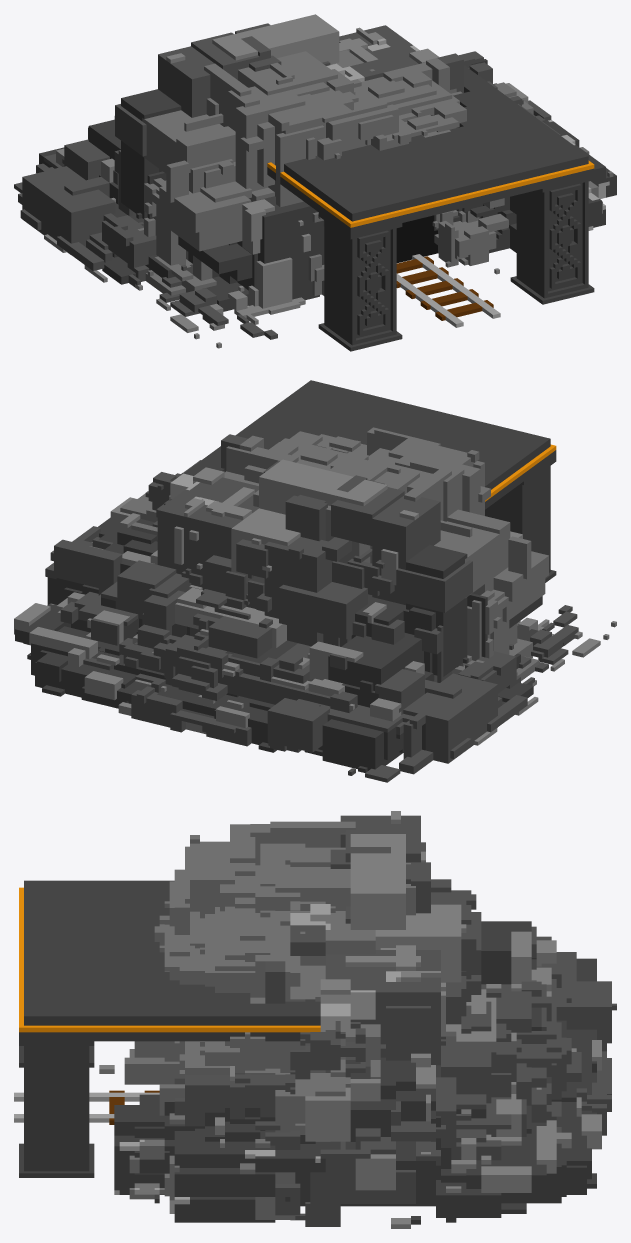
File: Mine.fbx
3 views of the same model, one above another, from view 1: azimuth 30°, elevation 25°; view 2: azimuth 150°, elevation 25°; view 3: azimuth 270°, elevation 25° (orthographic). The views are drawn at different scales.
Parts seen in each view (by area): view 1: root; view 2: root; view 3: root.
Part boxes in pixels (<box>): root: <box>14,14,616,351</box>; root: <box>14,380,616,782</box>; root: <box>14,811,616,1228</box>.
Bounding box in the file's own units: 0.512 × 0.2031 × 0.5078.
1 material, 1 textured.
